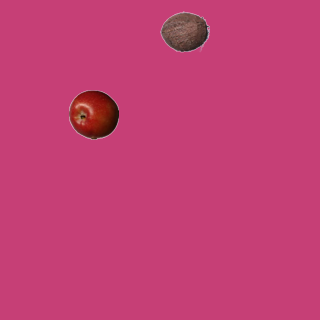Apple Braeburn: (68, 89, 118, 139)
Cocos: (159, 6, 209, 56)
